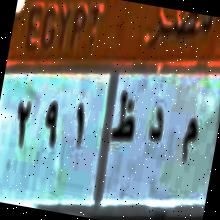1: (66, 103, 92, 161)
2: (9, 94, 37, 156)
9: (37, 97, 66, 158)
Thaa: (106, 90, 142, 153)
daal: (142, 109, 169, 160)
meem: (174, 113, 202, 168)
